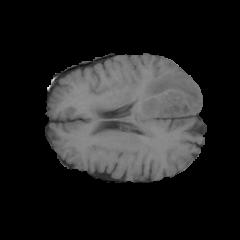glioma: (138, 73, 198, 117)
